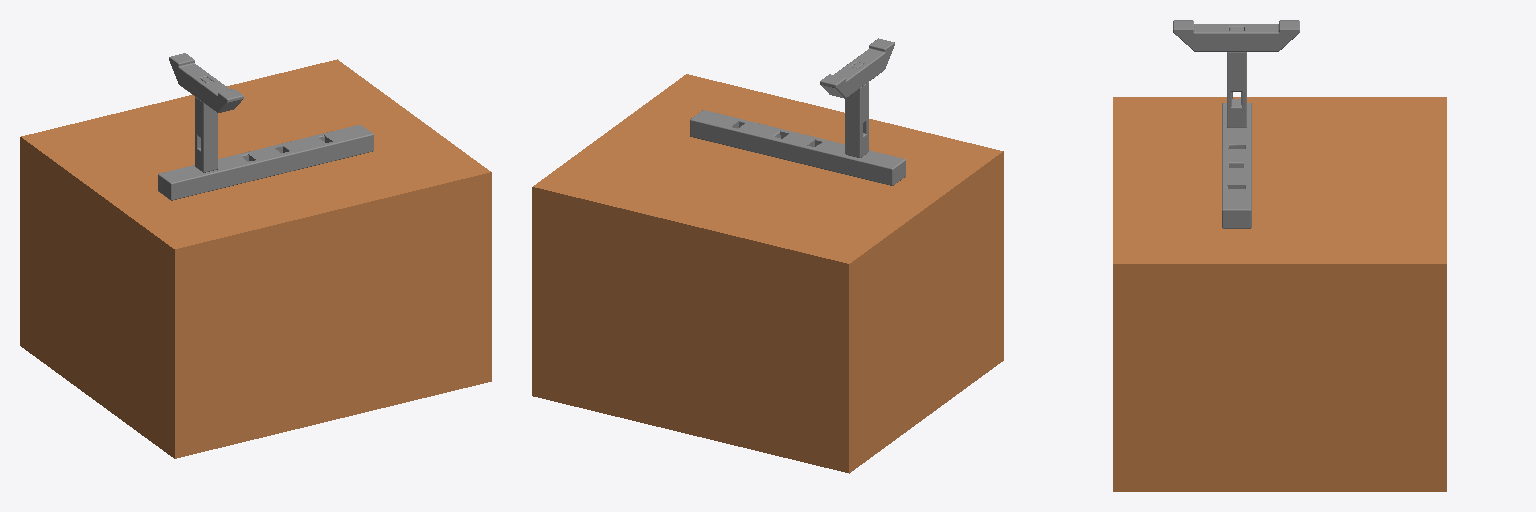
The robot description file, URDF, robot "table_beam_2x_3_scene_0025":
<?xml version="1.0"?>
<robot name="table_beam_2x_3_scene_0025">
  <link name="box">
    <visual>
      <material name="wood"><color rgba="0.82 0.56 0.35 1.0"/></material>
      <origin xyz="0 0 0"/>
      <geometry><box size="0.475 0.4 0.3"/></geometry>
    </visual>
    <collision>
      <origin xyz="0 0 0"/>
      <geometry><box size="0.475 0.4 0.3"/></geometry>
    </collision>
    <inertial>
      <mass value="500"/>
      <friction value="1.0"/>
      <inertia ixx="1000.0" ixy="0.0" ixz="0.0" iyy="1000.0" iyz="0.0" izz="1000.0"/>
    </inertial>
  </link>
  <link name="part_6_hull_0">
    <visual>
      <origin xyz="0 0 0" rpy="0 0 0"/>
      <geometry><mesh filename="../../6/coacd/decomp_0.obj" scale="1 1 1"/></geometry>
      <material name="placed_0"><color rgba="0.6 0.6 0.6 1.0"/></material>
    </visual>
    <collision>
      <origin xyz="0 0 0" rpy="0 0 0"/>
      <geometry><mesh filename="../../6/coacd/decomp_0.obj" scale="1 1 1"/></geometry>
    </collision>
  </link>
  <joint name="part_6_hull_0_joint" type="fixed">
    <parent link="box"/>
    <child link="part_6_hull_0"/>
    <origin xyz="-0.015116 -0.051790 0.162666" rpy="0.000000 0.000000 0.000000"/>
  </joint>
  <link name="part_6_hull_1">
    <visual>
      <origin xyz="0 0 0" rpy="0 0 0"/>
      <geometry><mesh filename="../../6/coacd/decomp_1.obj" scale="1 1 1"/></geometry>
      <material name="placed_1"><color rgba="0.6 0.6 0.6 1.0"/></material>
    </visual>
    <collision>
      <origin xyz="0 0 0" rpy="0 0 0"/>
      <geometry><mesh filename="../../6/coacd/decomp_1.obj" scale="1 1 1"/></geometry>
    </collision>
  </link>
  <joint name="part_6_hull_1_joint" type="fixed">
    <parent link="box"/>
    <child link="part_6_hull_1"/>
    <origin xyz="-0.015116 -0.051790 0.162666" rpy="0.000000 0.000000 0.000000"/>
  </joint>
  <link name="part_6_hull_2">
    <visual>
      <origin xyz="0 0 0" rpy="0 0 0"/>
      <geometry><mesh filename="../../6/coacd/decomp_10.obj" scale="1 1 1"/></geometry>
      <material name="placed_2"><color rgba="0.6 0.6 0.6 1.0"/></material>
    </visual>
    <collision>
      <origin xyz="0 0 0" rpy="0 0 0"/>
      <geometry><mesh filename="../../6/coacd/decomp_10.obj" scale="1 1 1"/></geometry>
    </collision>
  </link>
  <joint name="part_6_hull_2_joint" type="fixed">
    <parent link="box"/>
    <child link="part_6_hull_2"/>
    <origin xyz="-0.015116 -0.051790 0.162666" rpy="0.000000 0.000000 0.000000"/>
  </joint>
  <link name="part_6_hull_3">
    <visual>
      <origin xyz="0 0 0" rpy="0 0 0"/>
      <geometry><mesh filename="../../6/coacd/decomp_11.obj" scale="1 1 1"/></geometry>
      <material name="placed_3"><color rgba="0.6 0.6 0.6 1.0"/></material>
    </visual>
    <collision>
      <origin xyz="0 0 0" rpy="0 0 0"/>
      <geometry><mesh filename="../../6/coacd/decomp_11.obj" scale="1 1 1"/></geometry>
    </collision>
  </link>
  <joint name="part_6_hull_3_joint" type="fixed">
    <parent link="box"/>
    <child link="part_6_hull_3"/>
    <origin xyz="-0.015116 -0.051790 0.162666" rpy="0.000000 0.000000 0.000000"/>
  </joint>
  <link name="part_6_hull_4">
    <visual>
      <origin xyz="0 0 0" rpy="0 0 0"/>
      <geometry><mesh filename="../../6/coacd/decomp_12.obj" scale="1 1 1"/></geometry>
      <material name="placed_4"><color rgba="0.6 0.6 0.6 1.0"/></material>
    </visual>
    <collision>
      <origin xyz="0 0 0" rpy="0 0 0"/>
      <geometry><mesh filename="../../6/coacd/decomp_12.obj" scale="1 1 1"/></geometry>
    </collision>
  </link>
  <joint name="part_6_hull_4_joint" type="fixed">
    <parent link="box"/>
    <child link="part_6_hull_4"/>
    <origin xyz="-0.015116 -0.051790 0.162666" rpy="0.000000 0.000000 0.000000"/>
  </joint>
  <link name="part_6_hull_5">
    <visual>
      <origin xyz="0 0 0" rpy="0 0 0"/>
      <geometry><mesh filename="../../6/coacd/decomp_13.obj" scale="1 1 1"/></geometry>
      <material name="placed_5"><color rgba="0.6 0.6 0.6 1.0"/></material>
    </visual>
    <collision>
      <origin xyz="0 0 0" rpy="0 0 0"/>
      <geometry><mesh filename="../../6/coacd/decomp_13.obj" scale="1 1 1"/></geometry>
    </collision>
  </link>
  <joint name="part_6_hull_5_joint" type="fixed">
    <parent link="box"/>
    <child link="part_6_hull_5"/>
    <origin xyz="-0.015116 -0.051790 0.162666" rpy="0.000000 0.000000 0.000000"/>
  </joint>
  <link name="part_6_hull_6">
    <visual>
      <origin xyz="0 0 0" rpy="0 0 0"/>
      <geometry><mesh filename="../../6/coacd/decomp_2.obj" scale="1 1 1"/></geometry>
      <material name="placed_6"><color rgba="0.6 0.6 0.6 1.0"/></material>
    </visual>
    <collision>
      <origin xyz="0 0 0" rpy="0 0 0"/>
      <geometry><mesh filename="../../6/coacd/decomp_2.obj" scale="1 1 1"/></geometry>
    </collision>
  </link>
  <joint name="part_6_hull_6_joint" type="fixed">
    <parent link="box"/>
    <child link="part_6_hull_6"/>
    <origin xyz="-0.015116 -0.051790 0.162666" rpy="0.000000 0.000000 0.000000"/>
  </joint>
  <link name="part_6_hull_7">
    <visual>
      <origin xyz="0 0 0" rpy="0 0 0"/>
      <geometry><mesh filename="../../6/coacd/decomp_3.obj" scale="1 1 1"/></geometry>
      <material name="placed_7"><color rgba="0.6 0.6 0.6 1.0"/></material>
    </visual>
    <collision>
      <origin xyz="0 0 0" rpy="0 0 0"/>
      <geometry><mesh filename="../../6/coacd/decomp_3.obj" scale="1 1 1"/></geometry>
    </collision>
  </link>
  <joint name="part_6_hull_7_joint" type="fixed">
    <parent link="box"/>
    <child link="part_6_hull_7"/>
    <origin xyz="-0.015116 -0.051790 0.162666" rpy="0.000000 0.000000 0.000000"/>
  </joint>
  <link name="part_6_hull_8">
    <visual>
      <origin xyz="0 0 0" rpy="0 0 0"/>
      <geometry><mesh filename="../../6/coacd/decomp_4.obj" scale="1 1 1"/></geometry>
      <material name="placed_8"><color rgba="0.6 0.6 0.6 1.0"/></material>
    </visual>
    <collision>
      <origin xyz="0 0 0" rpy="0 0 0"/>
      <geometry><mesh filename="../../6/coacd/decomp_4.obj" scale="1 1 1"/></geometry>
    </collision>
  </link>
  <joint name="part_6_hull_8_joint" type="fixed">
    <parent link="box"/>
    <child link="part_6_hull_8"/>
    <origin xyz="-0.015116 -0.051790 0.162666" rpy="0.000000 0.000000 0.000000"/>
  </joint>
  <link name="part_6_hull_9">
    <visual>
      <origin xyz="0 0 0" rpy="0 0 0"/>
      <geometry><mesh filename="../../6/coacd/decomp_5.obj" scale="1 1 1"/></geometry>
      <material name="placed_9"><color rgba="0.6 0.6 0.6 1.0"/></material>
    </visual>
    <collision>
      <origin xyz="0 0 0" rpy="0 0 0"/>
      <geometry><mesh filename="../../6/coacd/decomp_5.obj" scale="1 1 1"/></geometry>
    </collision>
  </link>
  <joint name="part_6_hull_9_joint" type="fixed">
    <parent link="box"/>
    <child link="part_6_hull_9"/>
    <origin xyz="-0.015116 -0.051790 0.162666" rpy="0.000000 0.000000 0.000000"/>
  </joint>
  <link name="part_6_hull_10">
    <visual>
      <origin xyz="0 0 0" rpy="0 0 0"/>
      <geometry><mesh filename="../../6/coacd/decomp_6.obj" scale="1 1 1"/></geometry>
      <material name="placed_10"><color rgba="0.6 0.6 0.6 1.0"/></material>
    </visual>
    <collision>
      <origin xyz="0 0 0" rpy="0 0 0"/>
      <geometry><mesh filename="../../6/coacd/decomp_6.obj" scale="1 1 1"/></geometry>
    </collision>
  </link>
  <joint name="part_6_hull_10_joint" type="fixed">
    <parent link="box"/>
    <child link="part_6_hull_10"/>
    <origin xyz="-0.015116 -0.051790 0.162666" rpy="0.000000 0.000000 0.000000"/>
  </joint>
  <link name="part_6_hull_11">
    <visual>
      <origin xyz="0 0 0" rpy="0 0 0"/>
      <geometry><mesh filename="../../6/coacd/decomp_7.obj" scale="1 1 1"/></geometry>
      <material name="placed_11"><color rgba="0.6 0.6 0.6 1.0"/></material>
    </visual>
    <collision>
      <origin xyz="0 0 0" rpy="0 0 0"/>
      <geometry><mesh filename="../../6/coacd/decomp_7.obj" scale="1 1 1"/></geometry>
    </collision>
  </link>
  <joint name="part_6_hull_11_joint" type="fixed">
    <parent link="box"/>
    <child link="part_6_hull_11"/>
    <origin xyz="-0.015116 -0.051790 0.162666" rpy="0.000000 0.000000 0.000000"/>
  </joint>
  <link name="part_6_hull_12">
    <visual>
      <origin xyz="0 0 0" rpy="0 0 0"/>
      <geometry><mesh filename="../../6/coacd/decomp_8.obj" scale="1 1 1"/></geometry>
      <material name="placed_12"><color rgba="0.6 0.6 0.6 1.0"/></material>
    </visual>
    <collision>
      <origin xyz="0 0 0" rpy="0 0 0"/>
      <geometry><mesh filename="../../6/coacd/decomp_8.obj" scale="1 1 1"/></geometry>
    </collision>
  </link>
  <joint name="part_6_hull_12_joint" type="fixed">
    <parent link="box"/>
    <child link="part_6_hull_12"/>
    <origin xyz="-0.015116 -0.051790 0.162666" rpy="0.000000 0.000000 0.000000"/>
  </joint>
  <link name="part_6_hull_13">
    <visual>
      <origin xyz="0 0 0" rpy="0 0 0"/>
      <geometry><mesh filename="../../6/coacd/decomp_9.obj" scale="1 1 1"/></geometry>
      <material name="placed_13"><color rgba="0.6 0.6 0.6 1.0"/></material>
    </visual>
    <collision>
      <origin xyz="0 0 0" rpy="0 0 0"/>
      <geometry><mesh filename="../../6/coacd/decomp_9.obj" scale="1 1 1"/></geometry>
    </collision>
  </link>
  <joint name="part_6_hull_13_joint" type="fixed">
    <parent link="box"/>
    <child link="part_6_hull_13"/>
    <origin xyz="-0.015116 -0.051790 0.162666" rpy="0.000000 0.000000 0.000000"/>
  </joint>
  <link name="part_2_canonical">
    <visual>
      <origin xyz="0 0 0" rpy="0 0 0"/>
      <geometry><mesh filename="../../2/2_canonical.obj" scale="1 1 1"/></geometry>
      <material name="placed_14"><color rgba="0.6 0.6 0.6 1.0"/></material>
    </visual>
    <collision>
      <origin xyz="0 0 0" rpy="0 0 0"/>
      <geometry><mesh filename="../../2/2_canonical.obj" scale="1 1 1"/></geometry>
    </collision>
  </link>
  <joint name="part_2_canonical_joint" type="fixed">
    <parent link="box"/>
    <child link="part_2_canonical"/>
    <origin xyz="-0.104042 -0.051790 0.225384" rpy="0.000000 -1.570796 0.000000"/>
  </joint>
  <link name="part_0_canonical">
    <visual>
      <origin xyz="0 0 0" rpy="0 0 0"/>
      <geometry><mesh filename="../../0/0_canonical.obj" scale="1 1 1"/></geometry>
      <material name="placed_15"><color rgba="0.6 0.6 0.6 1.0"/></material>
    </visual>
    <collision>
      <origin xyz="0 0 0" rpy="0 0 0"/>
      <geometry><mesh filename="../../0/0_canonical.obj" scale="1 1 1"/></geometry>
    </collision>
  </link>
  <joint name="part_0_canonical_joint" type="fixed">
    <parent link="box"/>
    <child link="part_0_canonical"/>
    <origin xyz="-0.104016 -0.051790 0.292243" rpy="1.570796 0.000000 -1.570796"/>
  </joint>
</robot>

--- Facts derived from the render (not from the file) ---
The picture shows the robot from 3 angles, left to right: view 1: azimuth 30°, elevation 25°; view 2: azimuth 150°, elevation 25°; view 3: azimuth 270°, elevation 25°; orthographic projection.
Model table_beam_2x_3_scene_0025 with 17 links and 16 joints (16 fixed), rooted at box, posed all joints at 0.
Links seen in each view (by area): view 1: box, part_0_canonical, part_2_canonical, part_6_hull_1, part_6_hull_0, part_6_hull_9, part_6_hull_5, part_6_hull_3; view 2: box, part_0_canonical, part_2_canonical, part_6_hull_1, part_6_hull_0, part_6_hull_2, part_6_hull_5, part_6_hull_12; view 3: box, part_0_canonical, part_2_canonical, part_6_hull_0.
Link boxes in pixels (bbox=[...]): box: bbox=[20, 59, 491, 458]; part_0_canonical: bbox=[169, 53, 243, 112]; part_2_canonical: bbox=[195, 77, 217, 172]; part_6_hull_1: bbox=[158, 165, 209, 200]; part_6_hull_0: bbox=[323, 125, 373, 160]; part_6_hull_9: bbox=[208, 160, 258, 190]; part_6_hull_5: bbox=[289, 136, 328, 168]; part_6_hull_3: bbox=[260, 149, 301, 177]; box: bbox=[532, 74, 1003, 473]; part_0_canonical: bbox=[820, 38, 894, 98]; part_2_canonical: bbox=[845, 62, 868, 157]; part_6_hull_1: bbox=[854, 150, 905, 185]; part_6_hull_0: bbox=[690, 110, 740, 145]; part_6_hull_2: bbox=[812, 142, 848, 174]; part_6_hull_5: bbox=[735, 121, 774, 153]; part_6_hull_12: bbox=[762, 135, 802, 163]; box: bbox=[1113, 97, 1446, 491]; part_0_canonical: bbox=[1173, 20, 1299, 51]; part_2_canonical: bbox=[1227, 27, 1246, 127]; part_6_hull_0: bbox=[1222, 189, 1251, 228].
Bounding box of the posed robot: 0.475 × 0.4 × 0.4575 m (x, y, z).
16 mesh visuals loaded from 16 distinct referenced files (16 OBJ).
